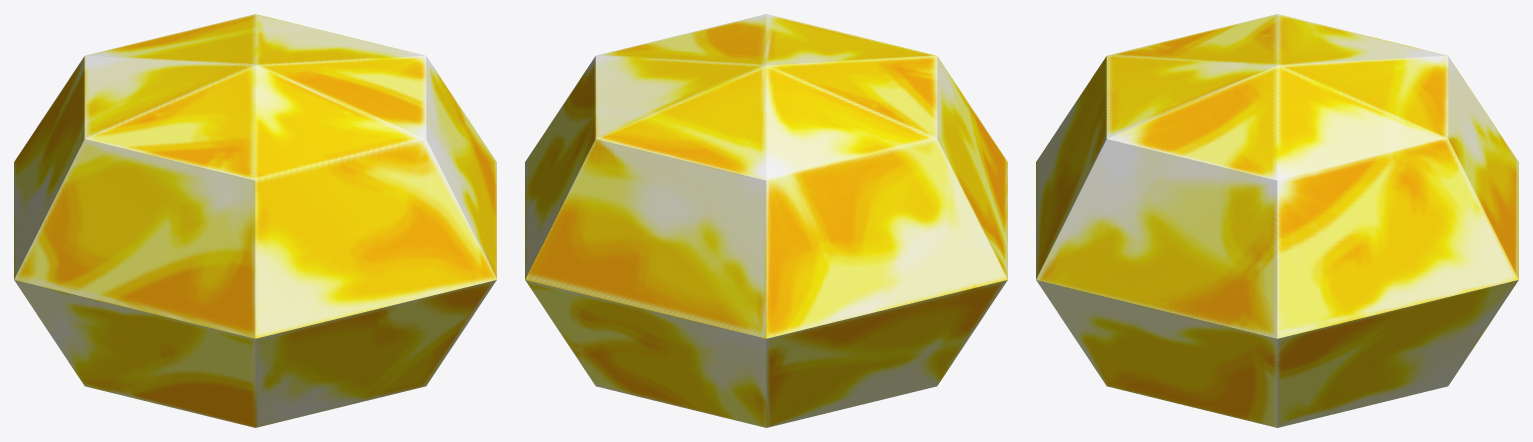
File: stone_yellow_002.fbx
3 renders of one model, left to right at view 1: azimuth 30°, elevation 25°; view 2: azimuth 150°, elevation 25°; view 3: azimuth 270°, elevation 25°, orthographic.
Visible parts, largest first — view 1: stone; view 2: stone; view 3: stone.
Boxes of the visible parts, x1,y1,x2,y2 form: stone: [14, 14, 496, 427]; stone: [525, 14, 1007, 427]; stone: [1036, 14, 1518, 427].
Bounding box in the file's own units: 6.44 × 3.96 × 5.57.
